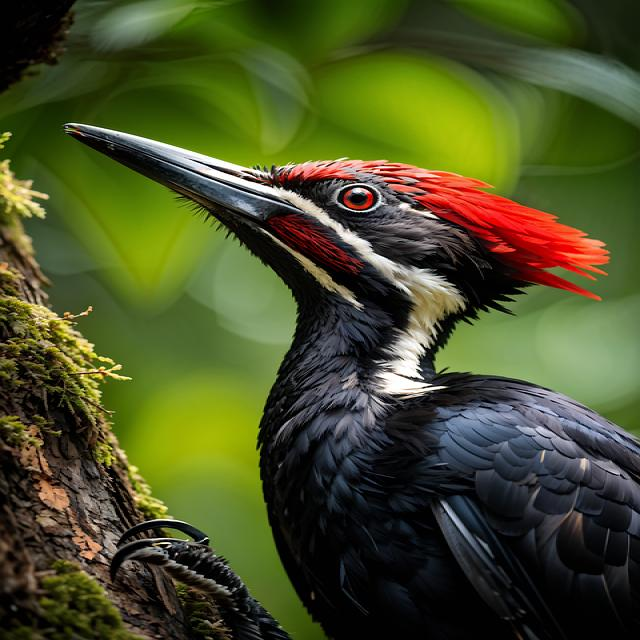Woodpecker: (70, 111, 640, 640)
